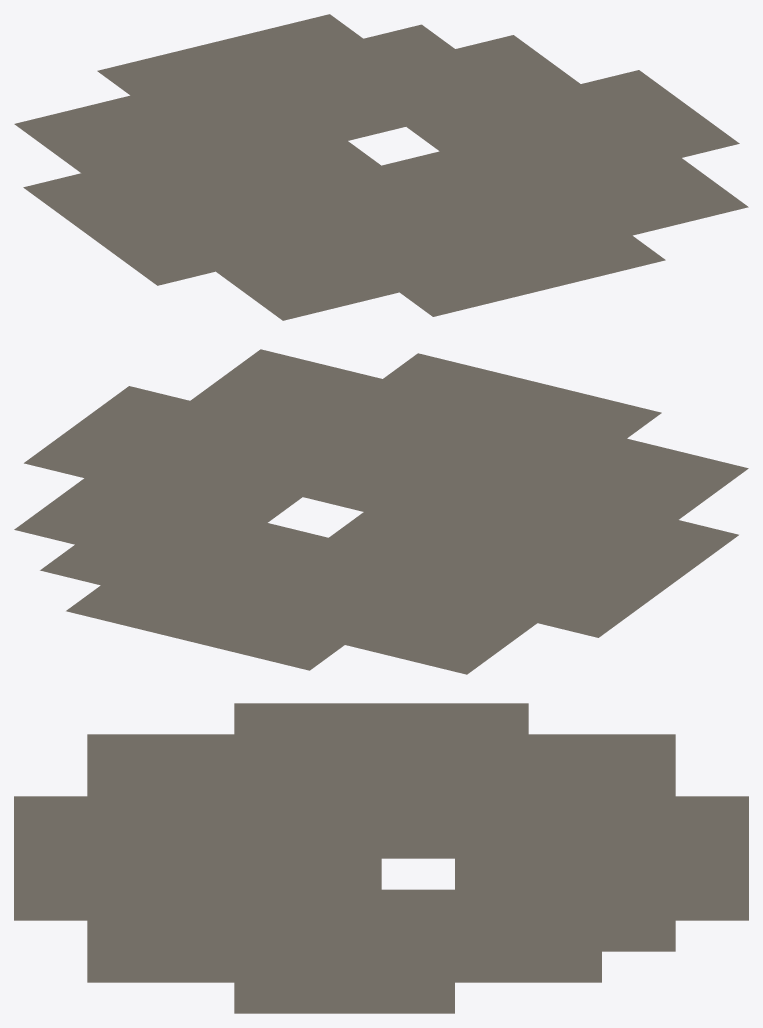
Rendered from Isl-islet1-RocksArea.fbx.
3 renders of one model, top to bottom at view 1: azimuth 30°, elevation 25°; view 2: azimuth 150°, elevation 25°; view 3: azimuth 270°, elevation 25°, orthographic. The views are drawn at different scales.
Visible parts, largest first — view 1: Isl-islet1-RocksArea; view 2: Isl-islet1-RocksArea; view 3: Isl-islet1-RocksArea.
Part boxes in pixels (x1=…): Isl-islet1-RocksArea: x1=14, y1=14, x2=748, y2=320; Isl-islet1-RocksArea: x1=14, y1=349, x2=748, y2=674; Isl-islet1-RocksArea: x1=14, y1=703, x2=748, y2=1013.
Bounding box in the file's own units: 10 × 0 × 10.
